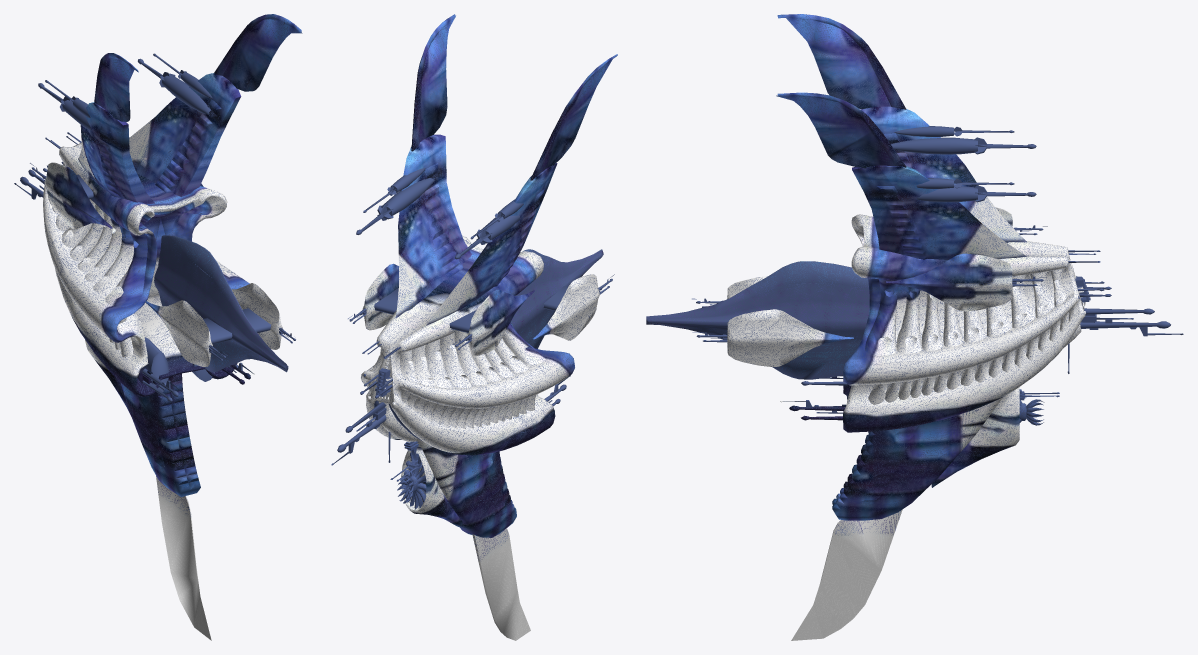
Rendered from Sharlin.fbx.
3 renders of one model, left to right at view 1: azimuth 30°, elevation 25°; view 2: azimuth 150°, elevation 25°; view 3: azimuth 270°, elevation 25°, orthographic.
Visible parts, largest first — view 1: RAD_MESH1, RAD_MESH2, RAD_MESH0, RAD_MESH5, RAD_MESH4; view 2: RAD_MESH1, RAD_MESH2, RAD_MESH0, RAD_MESH5, RAD_MESH4; view 3: RAD_MESH1, RAD_MESH2, RAD_MESH0, RAD_MESH5, RAD_MESH4.
Part boxes in pixels (x1=…): RAD_MESH1: x1=43, y1=14, x2=302, y2=638; RAD_MESH2: x1=14, y1=14, x2=300, y2=496; RAD_MESH0: x1=156, y1=476, x2=211, y2=640; RAD_MESH5: x1=80, y1=73, x2=239, y2=203; RAD_MESH4: x1=154, y1=235, x2=287, y2=371; RAD_MESH1: x1=361, y1=14, x2=617, y2=639; RAD_MESH2: x1=331, y1=16, x2=617, y2=537; RAD_MESH0: x1=472, y1=528, x2=530, y2=640; RAD_MESH5: x1=396, y1=135, x2=556, y2=322; RAD_MESH4: x1=512, y1=250, x2=602, y2=348; RAD_MESH1: x1=727, y1=14, x2=1085, y2=639; RAD_MESH2: x1=646, y1=14, x2=1183, y2=520; RAD_MESH0: x1=791, y1=509, x2=902, y2=640; RAD_MESH5: x1=852, y1=107, x2=1025, y2=259; RAD_MESH4: x1=646, y1=261, x2=869, y2=379.
Bounding box in the file's own units: 511 × 1770 × 1465.
